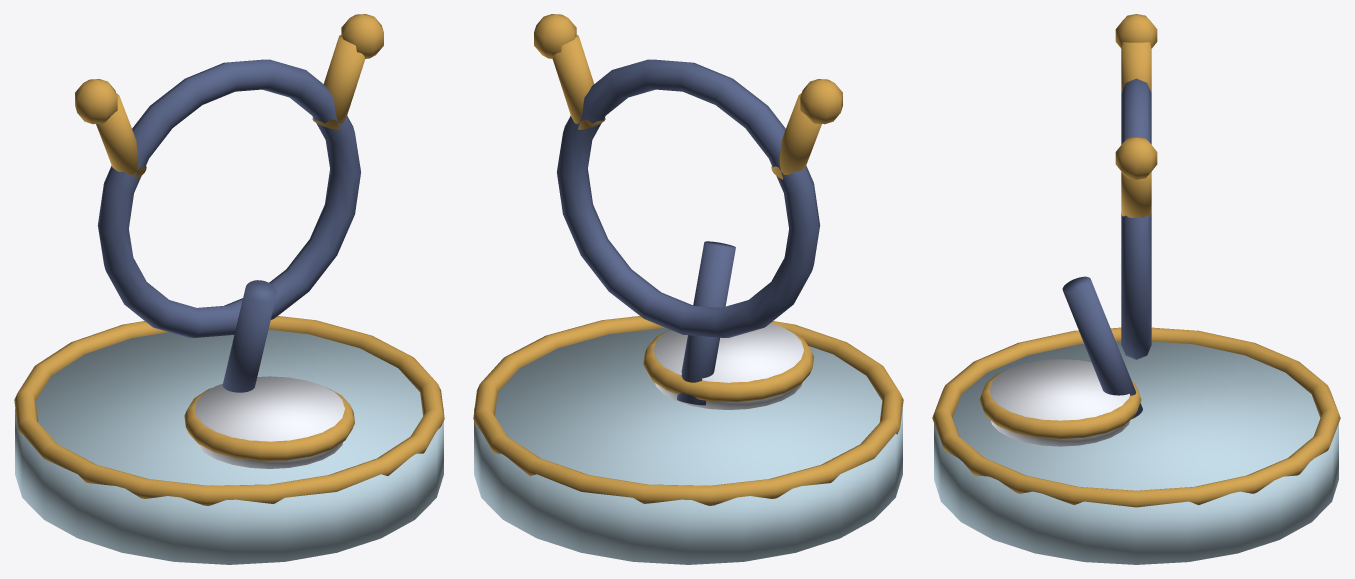
Rendered from opera_doctor_scope.glb.
3 renders of one model, left to right at view 1: azimuth 30°, elevation 25°; view 2: azimuth 150°, elevation 25°; view 3: azimuth 270°, elevation 25°, orthographic. The views are drawn at different scales.
Visible parts, largest first — view 1: VisualMesh.001; view 2: VisualMesh.001; view 3: VisualMesh.001.
Boxes of the visible parts, bbox=[...] form: VisualMesh.001: bbox=[14, 14, 444, 564]; VisualMesh.001: bbox=[473, 14, 903, 564]; VisualMesh.001: bbox=[932, 14, 1340, 564].
Size of the model in its own units: 2.42 by 2.63 by 2.42.
